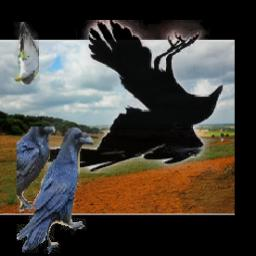Crow: (39, 20, 224, 173), (18, 127, 95, 254)
Cuckoo: (15, 23, 40, 86)
